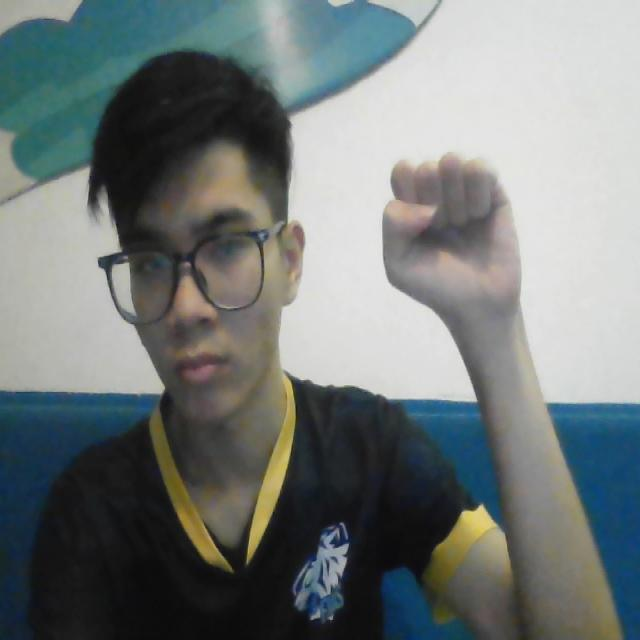E: (374, 150, 528, 320)
